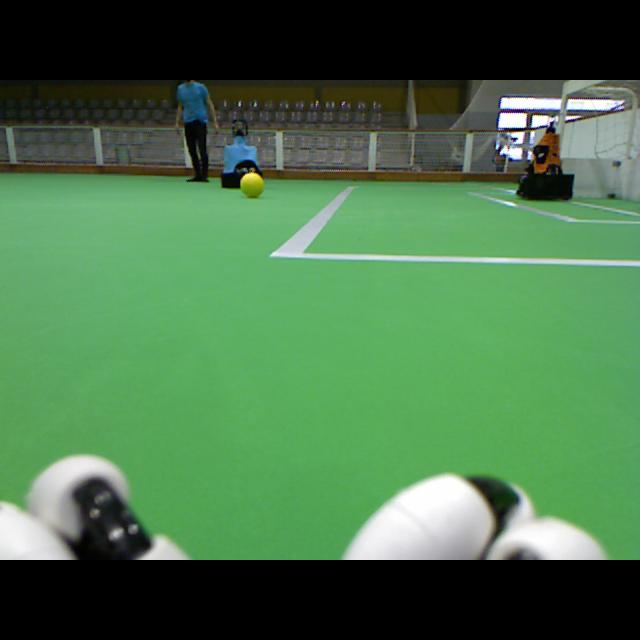ball: (242, 174, 264, 199)
robot: (516, 112, 574, 199)
